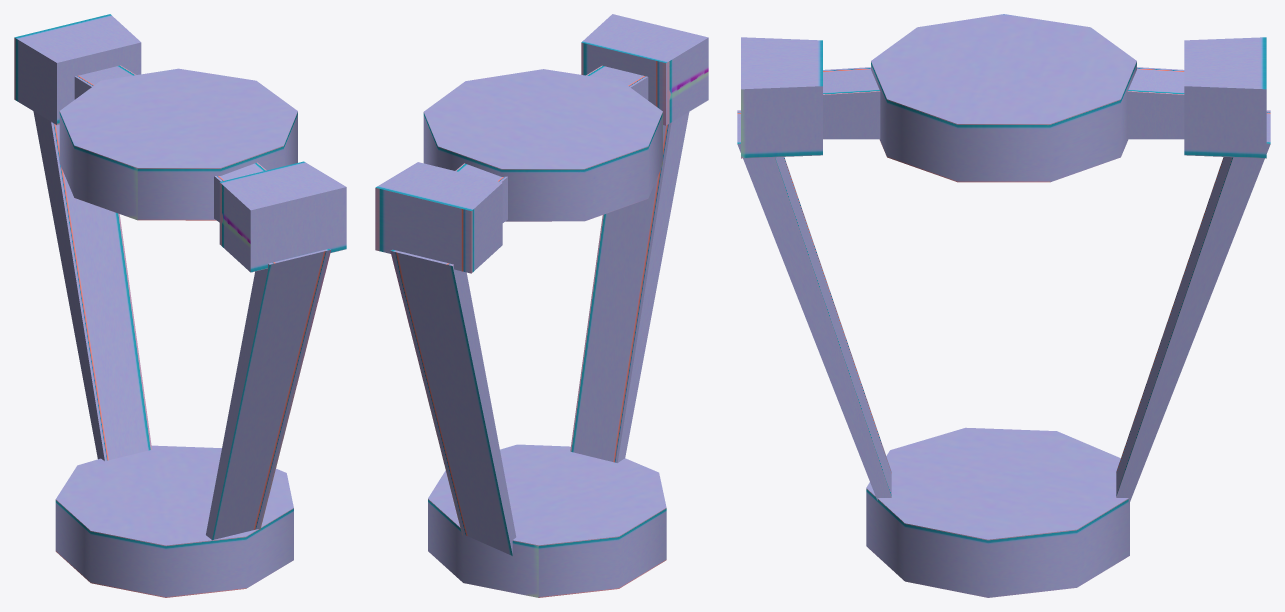
Rendered from LitFloodLightFastA2.fbx.
3 views of the same model, side by side, from view 1: azimuth 30°, elevation 25°; view 2: azimuth 150°, elevation 25°; view 3: azimuth 270°, elevation 25° (orthographic). The views are drawn at different scales.
Parts seen in each view (by area): view 1: LitFloodLightFastA2; view 2: LitFloodLightFastA2; view 3: LitFloodLightFastA2.
Boxes of the visible parts, bbox=[...] form: LitFloodLightFastA2: bbox=[14, 14, 346, 597]; LitFloodLightFastA2: bbox=[375, 14, 708, 597]; LitFloodLightFastA2: bbox=[737, 14, 1270, 597].
Size of the model in its own units: 32.8 by 65.7 by 66.07.
1 material, 1 textured.
